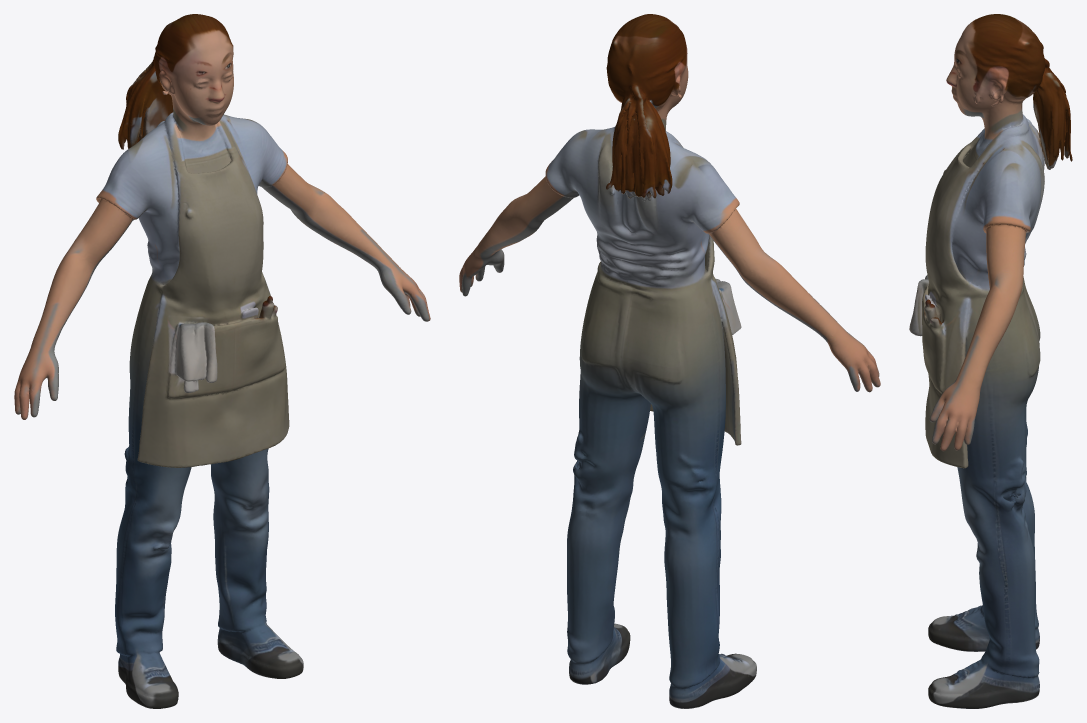
Rendered from Drizzi_Wisny.glb.
3 renders of one model, left to right at view 1: azimuth 30°, elevation 25°; view 2: azimuth 150°, elevation 25°; view 3: azimuth 270°, elevation 25°, orthographic.
Visible parts, largest first — view 1: tripo_node_0ceda614-17fe-4ec6-b19e-2545db9a01a4; view 2: tripo_node_0ceda614-17fe-4ec6-b19e-2545db9a01a4; view 3: tripo_node_0ceda614-17fe-4ec6-b19e-2545db9a01a4.
Part boxes in pixels (x1,y1,x2,y2): tripo_node_0ceda614-17fe-4ec6-b19e-2545db9a01a4: (14,14,430,708); tripo_node_0ceda614-17fe-4ec6-b19e-2545db9a01a4: (459,14,880,708); tripo_node_0ceda614-17fe-4ec6-b19e-2545db9a01a4: (909,14,1072,708).
Size of the model in its own units: 0.6519 by 1 by 0.2258.
Materials: 1 (1 with a texture image).
